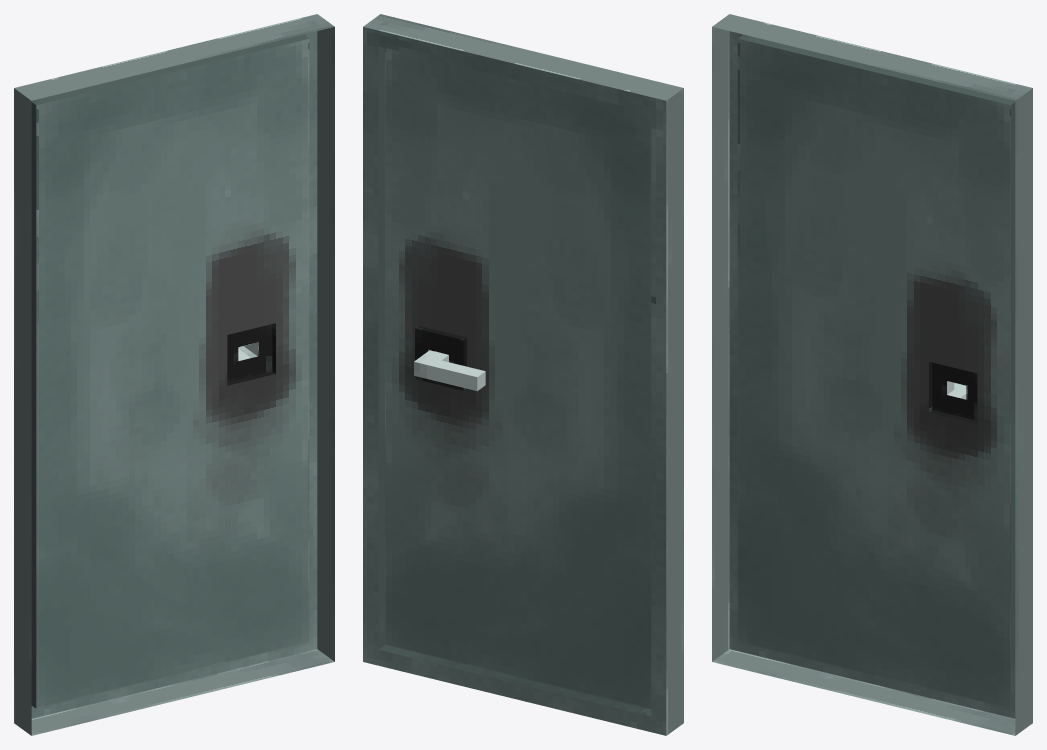
File: door.glb
3 renders of one model, left to right at view 1: azimuth 30°, elevation 25°; view 2: azimuth 150°, elevation 25°; view 3: azimuth 330°, elevation 25°, orthographic.
Visible parts, largest first — view 1: Cube.002; view 2: Cube.002; view 3: Cube.002.
Part boxes in pixels (x1,y1,x2,y2): Cube.002: [14, 14, 334, 735]; Cube.002: [363, 14, 683, 735]; Cube.002: [712, 14, 1032, 735].
Size of the model in its own units: 1 by 2 by 0.1699.
1 material, 1 textured.
